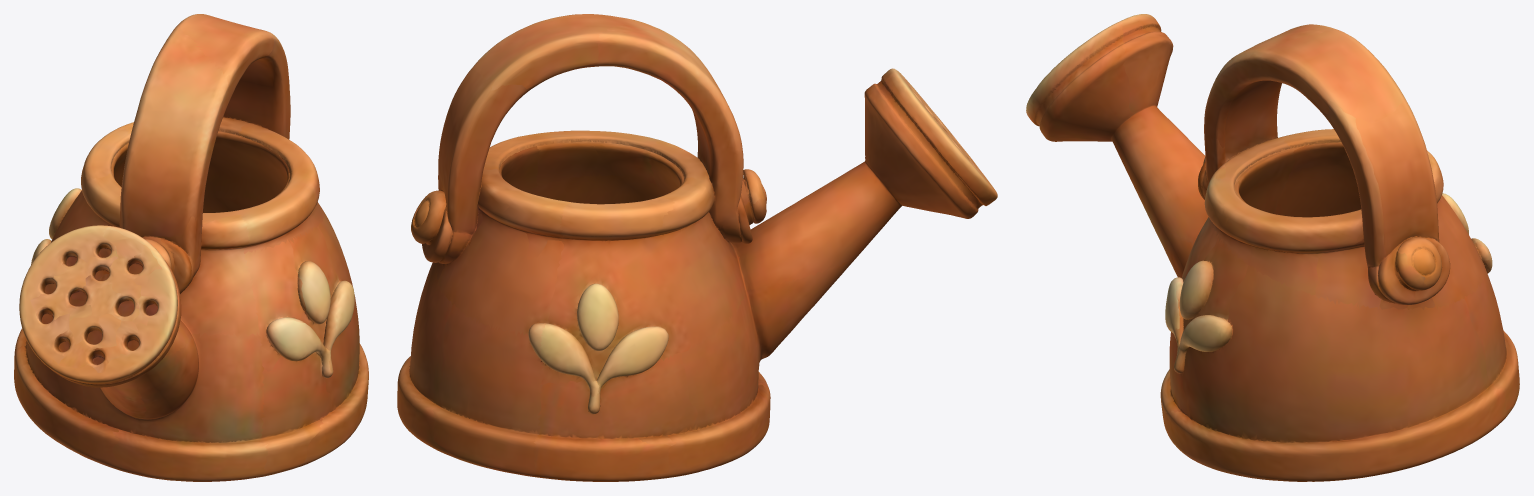
The model's file is binh-tuoi.glb.
3 views of the same model, side by side, from view 1: azimuth 30°, elevation 25°; view 2: azimuth 150°, elevation 25°; view 3: azimuth 270°, elevation 25° (orthographic). The views are drawn at different scales.
Bounding box in the file's own units: 0.2892 × 0.2496 × 0.2878.
1 material, 1 textured.
